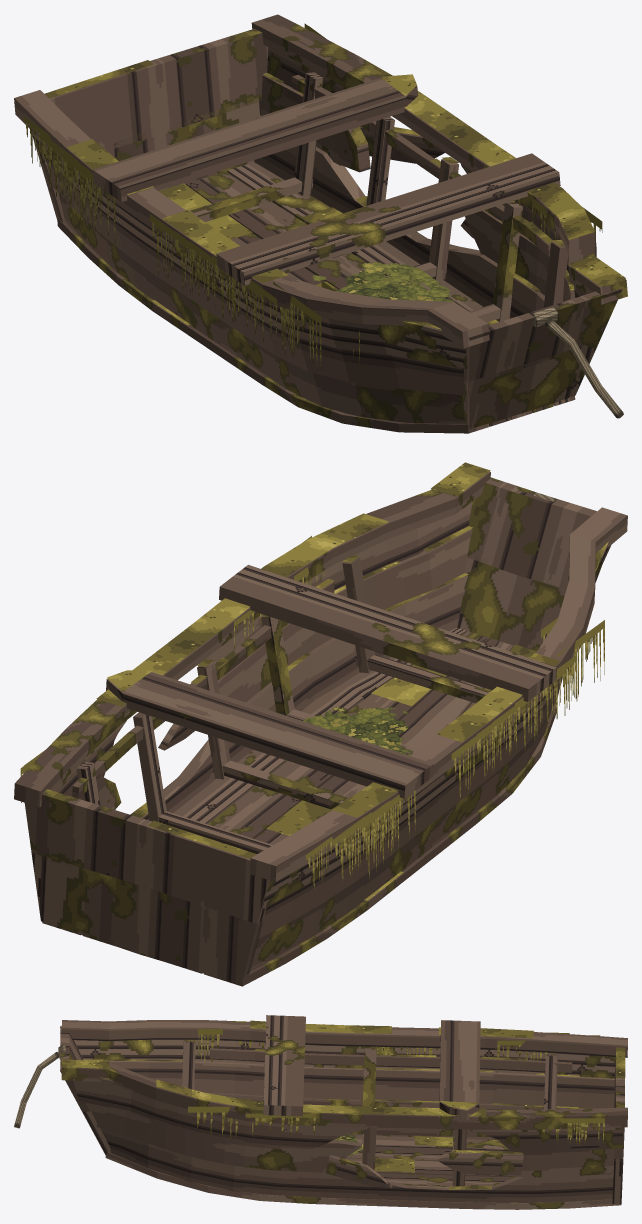
The model's file is SM_SW21_SunkenBoatWide.fbx.
3 renders of one model, top to bottom at view 1: azimuth 30°, elevation 25°; view 2: azimuth 150°, elevation 25°; view 3: azimuth 270°, elevation 25°, orthographic. The views are drawn at different scales.
Parts seen in each view (by area): view 1: SW21b_Planks, SW21b_Plants, SW21b_Moss, SW21b_Props; view 2: SW21b_Planks, SW21b_Moss, SW21b_Plants; view 3: SW21b_Planks, SW21b_Moss, SW21b_Plants, SW21b_Props.
Part boxes in pixels (x1,y1,x2,y2): SW21b_Planks: (14,14,627,433); SW21b_Plants: (23,23,602,372); SW21b_Moss: (44,60,625,329); SW21b_Props: (531,306,623,418); SW21b_Planks: (14,471,627,986); SW21b_Moss: (96,462,608,900); SW21b_Plants: (20,536,604,889); SW21b_Planks: (60,1015,627,1209); SW21b_Moss: (62,1020,625,1202); SW21b_Plants: (188,1021,604,1155); SW21b_Props: (14,1044,65,1128).
Size of the model in its own units: 1.77 by 1.01 by 4.03.
